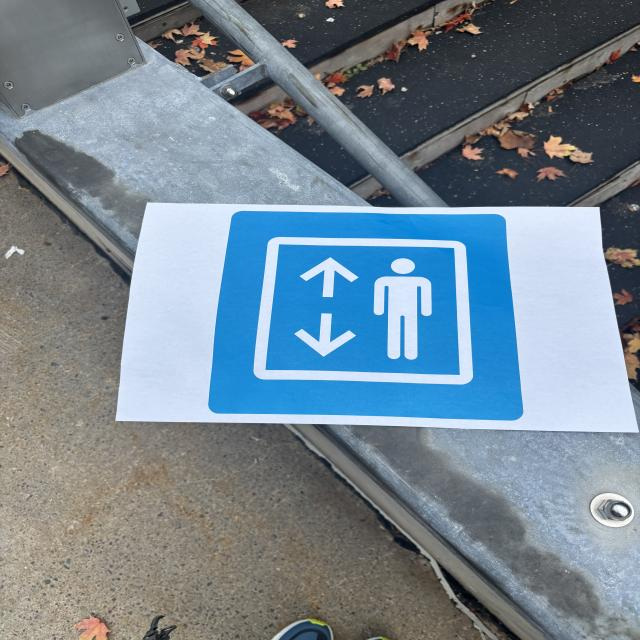elevator: (208, 211, 526, 416)
